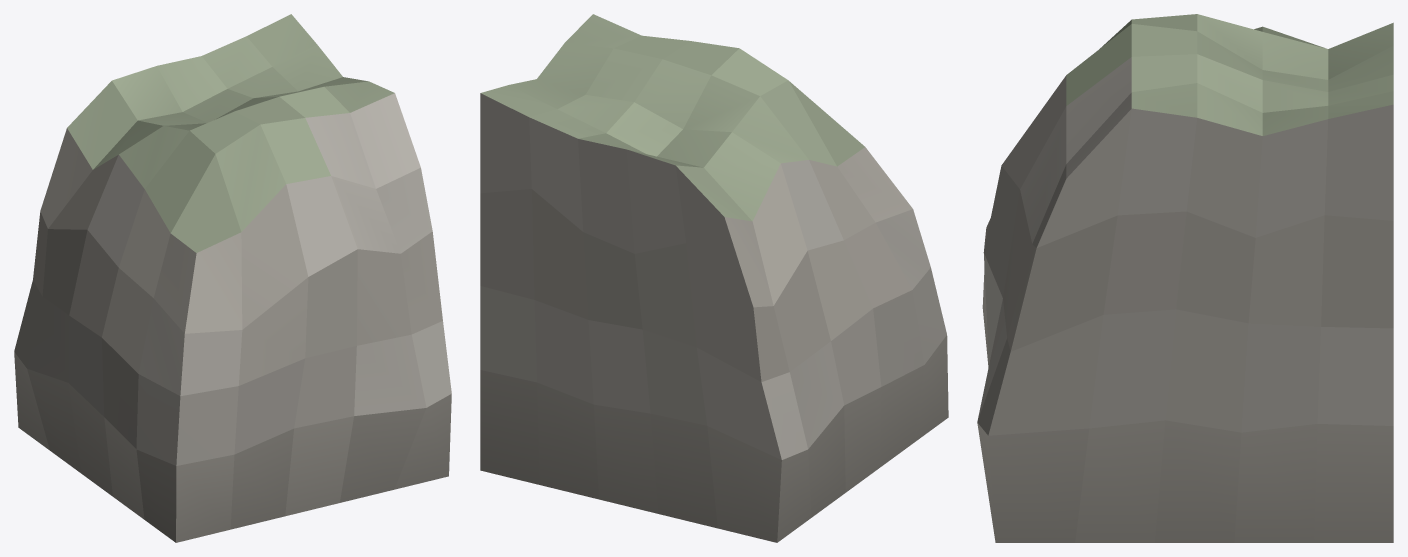
File: roca_esquina.glb
3 views of the same model, side by side, from view 1: azimuth 30°, elevation 25°; view 2: azimuth 150°, elevation 25°; view 3: azimuth 270°, elevation 25° (orthographic). The views are drawn at different scales.
Visible parts, largest first — view 1: propforge-cuartos-roca_esquina; view 2: propforge-cuartos-roca_esquina; view 3: propforge-cuartos-roca_esquina.
Boxes of the visible parts, left/top/right/bottom form: propforge-cuartos-roca_esquina: left=14, top=14, right=451, bottom=542; propforge-cuartos-roca_esquina: left=480, top=14, right=948, bottom=542; propforge-cuartos-roca_esquina: left=977, top=14, right=1393, bottom=542.
Size of the model in its own units: 0.9327 by 1.09 by 0.9413.
